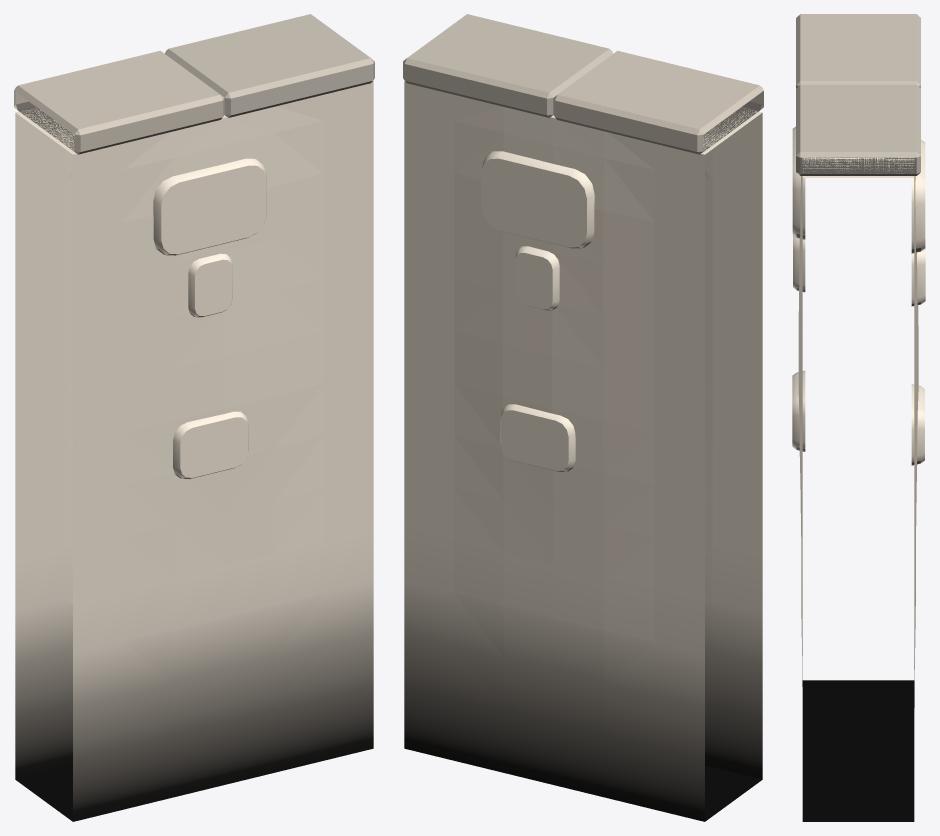
File: SM_VKI_Wall_Stone_Plain_150B_Full.fbx
3 views of the same model, side by side, from view 1: azimuth 30°, elevation 25°; view 2: azimuth 150°, elevation 25°; view 3: azimuth 270°, elevation 25° (orthographic). The views are drawn at different scales.
Parts seen in each view (by area): view 1: SM_VKI_Wall_Stone_Plain_150B_Full.001; view 2: SM_VKI_Wall_Stone_Plain_150B_Full.001; view 3: SM_VKI_Wall_Stone_Plain_150B_Full.001.
Boxes of the visible parts, x1,y1,x2,y2 form: SM_VKI_Wall_Stone_Plain_150B_Full.001: (14,14,374,821); SM_VKI_Wall_Stone_Plain_150B_Full.001: (403,14,763,821); SM_VKI_Wall_Stone_Plain_150B_Full.001: (792,14,925,821).
Size of the model in its own units: 1.5 by 3.3 by 0.5954.
